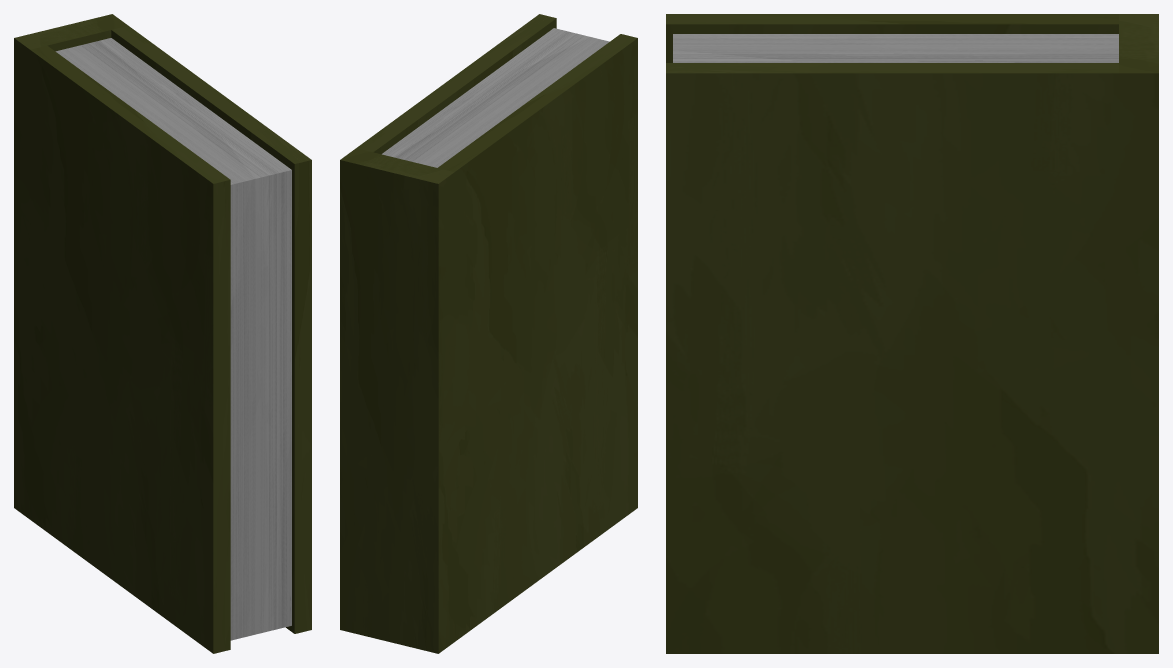
Rendered from M-Book4.fbx.
The picture shows the model from 3 angles, left to right: view 1: azimuth 30°, elevation 25°; view 2: azimuth 150°, elevation 25°; view 3: azimuth 270°, elevation 25°; orthographic projection. The views are drawn at different scales.
Visible parts, largest first — view 1: Cube.001; view 2: Cube.001; view 3: Cube.001.
Boxes of the visible parts, x1,y1,x2,y2 form: Cube.001: (14,14,311,653); Cube.001: (340,14,637,653); Cube.001: (666,14,1158,653).
Bounding box in the file's own units: 2.78 × 9.74 × 12.67.
1 material, 1 textured.
